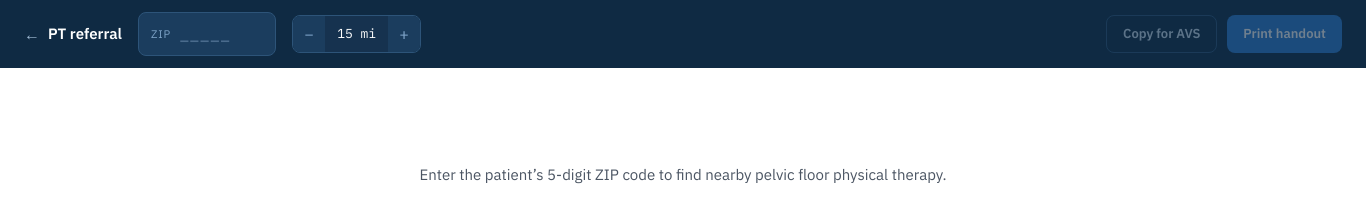
Test: SearchTherapists ZIP gating › shows the API message inline when the ZIP is unknown
Type "00000" into the field named "Patient ZIP code" at [227, 34], box [179,13,275,54]
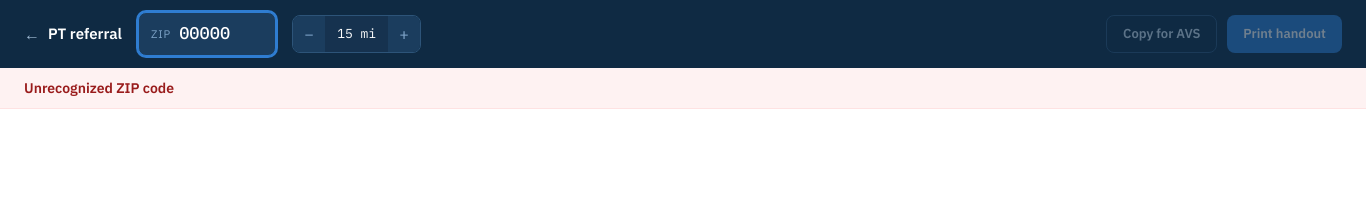
Expected: the text "Unrecognized ZIP code" is shown, [0,68,1365,108]
